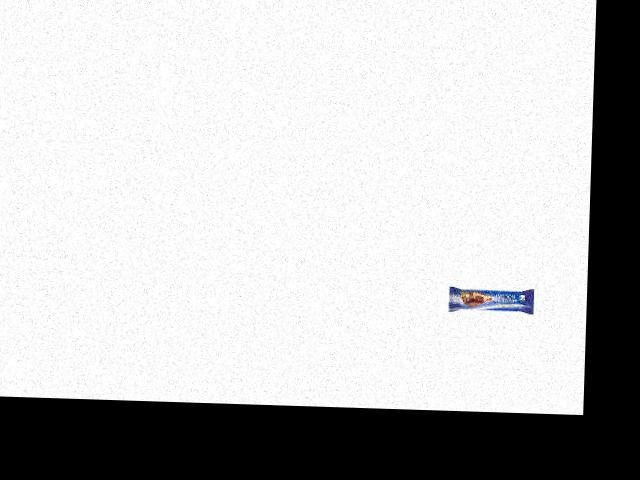chocolate: (437, 277, 536, 316)
